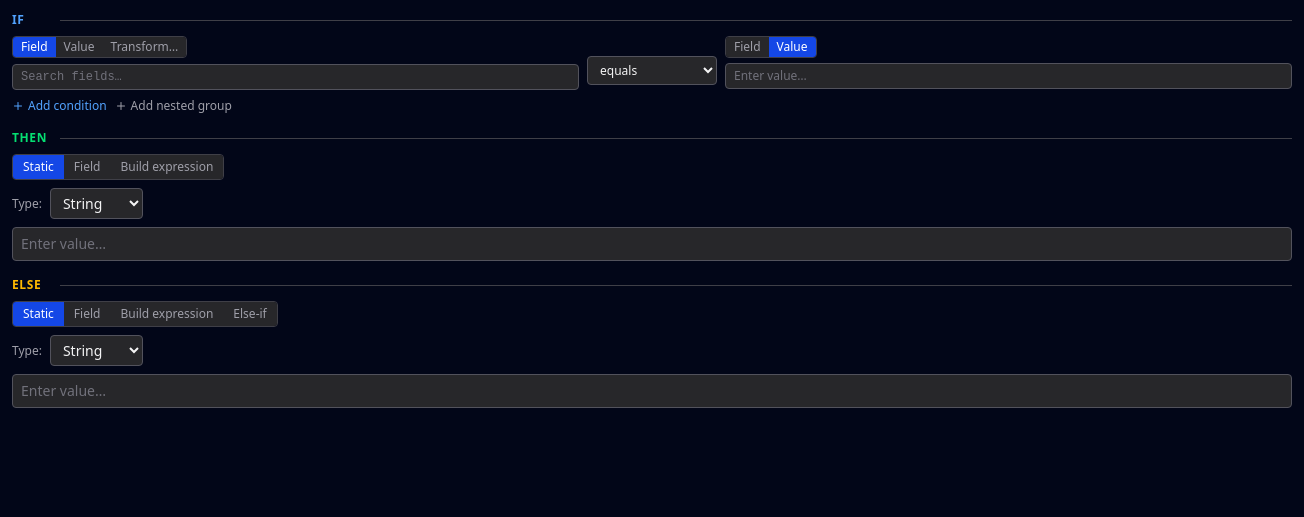
ConditionalModeBuilder — compound conditions › [+ Add condition] appends a row
The image size is (1304, 517).
Click the button with test id "add-condition-btn".
click(59, 106)  # box [12,98,107,114]
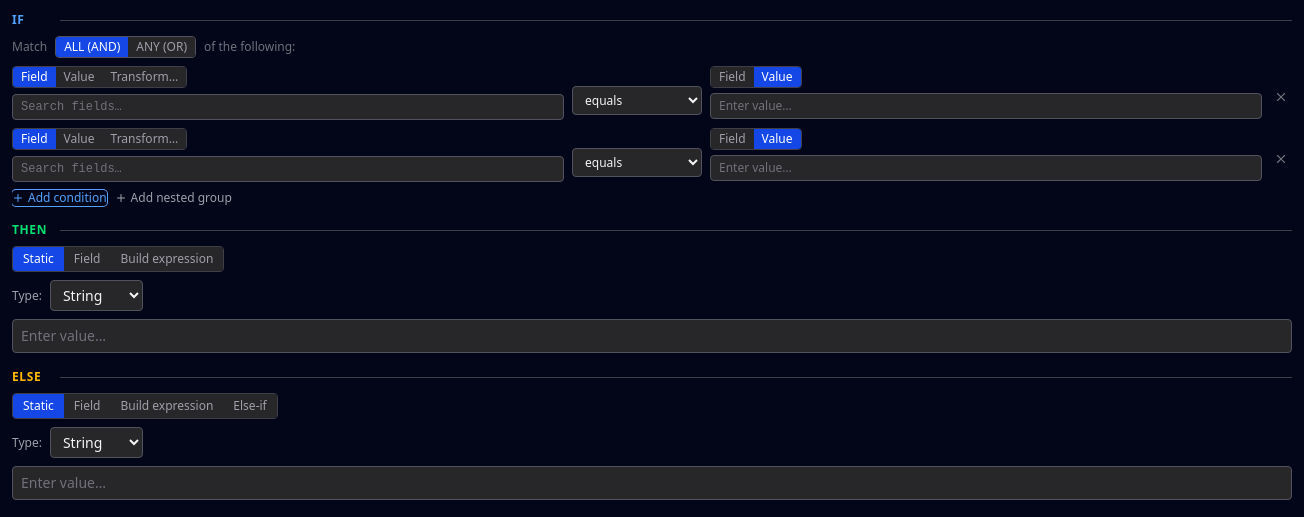
Expected: the element with test id "condition-row-1" is shown, [12,128,1292,182]
